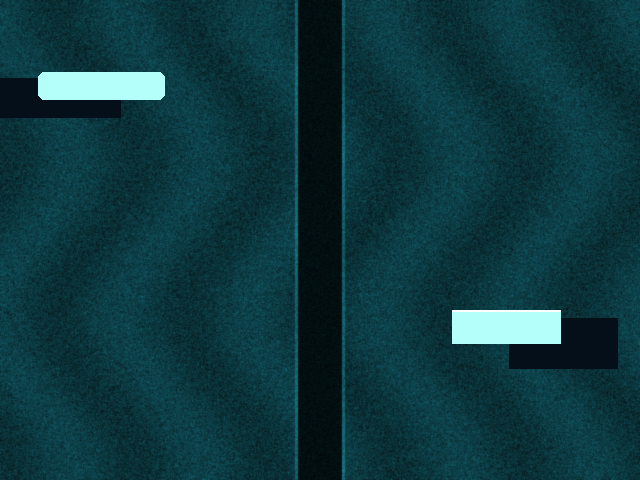Metal Debris: (452, 310, 560, 343)
Wood Debris: (38, 72, 164, 99)
